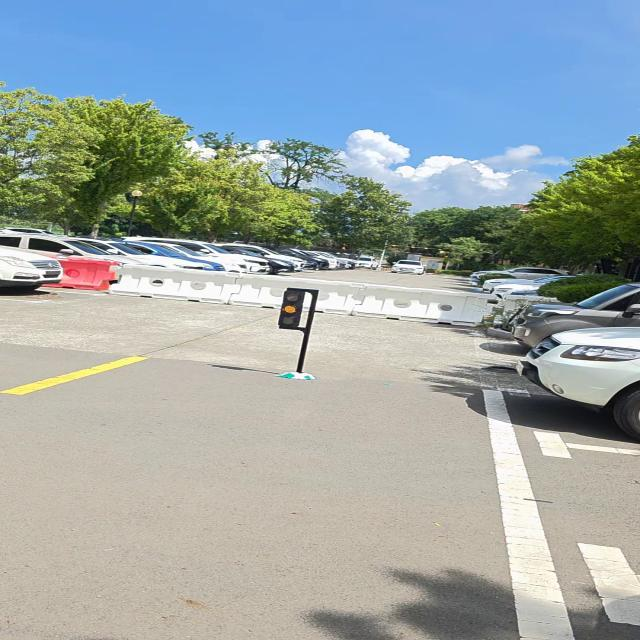yellow: (276, 289, 306, 329)
